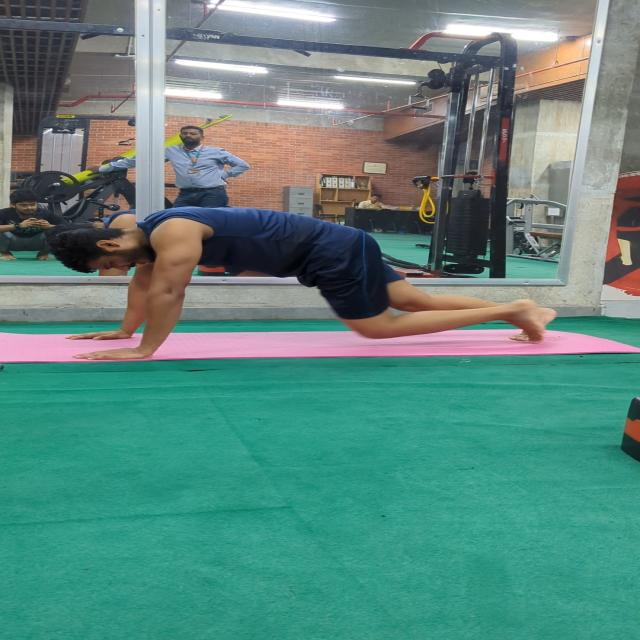Normal_MountainClimbers: (46, 194, 608, 378)
